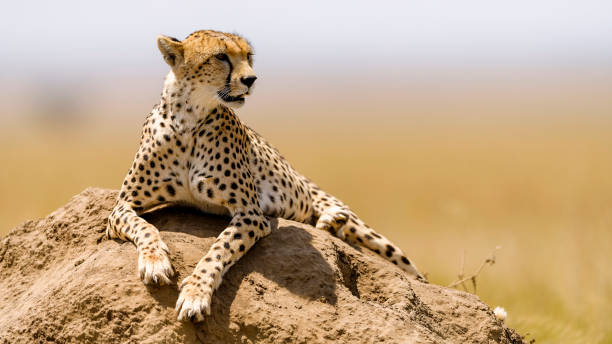cheetah: (143, 21, 265, 111)
